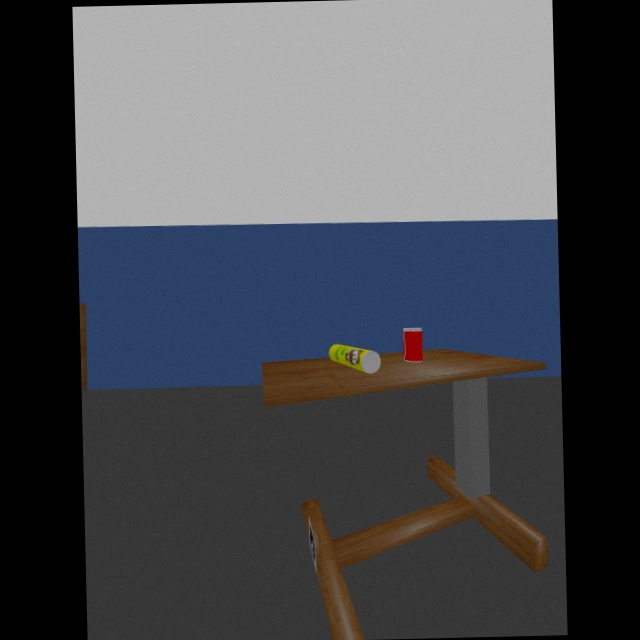chipsdose_gelb: (328, 344, 381, 374)
